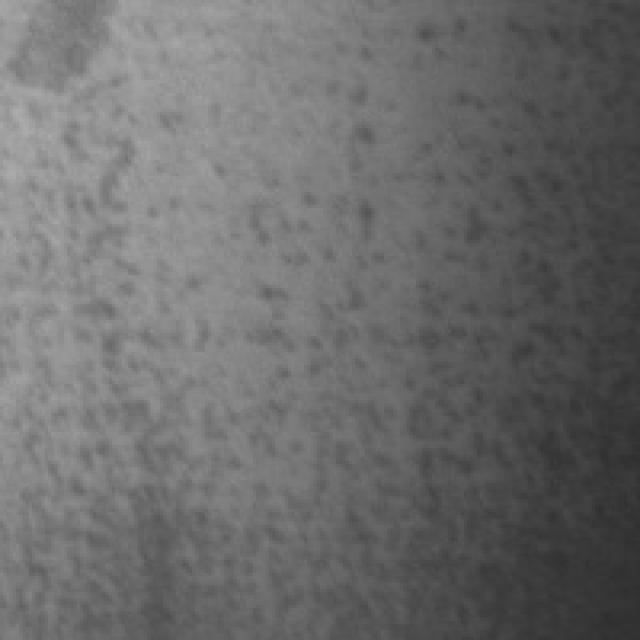pitted_surface: (6, 10, 628, 627)
